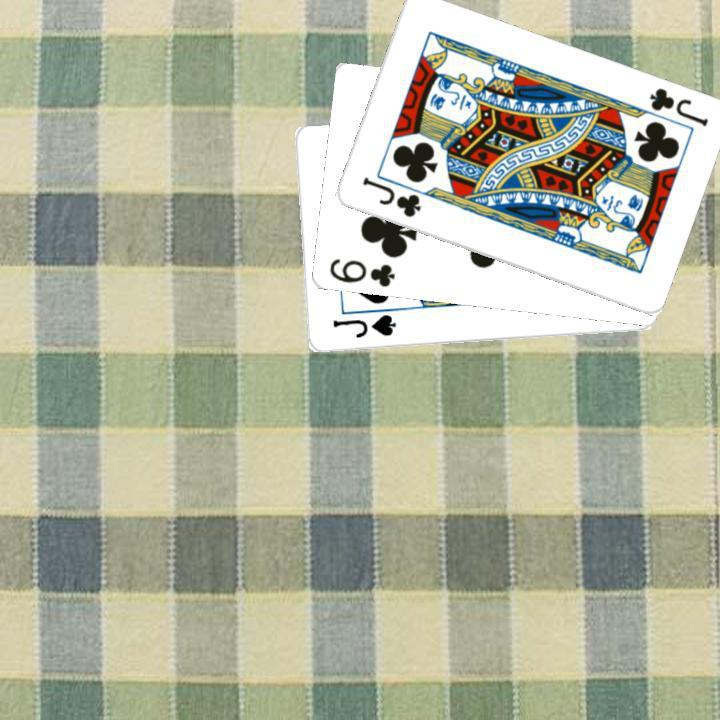6: (324, 254, 396, 290)
J: (644, 83, 710, 130), (357, 173, 422, 220), (328, 311, 398, 341)
